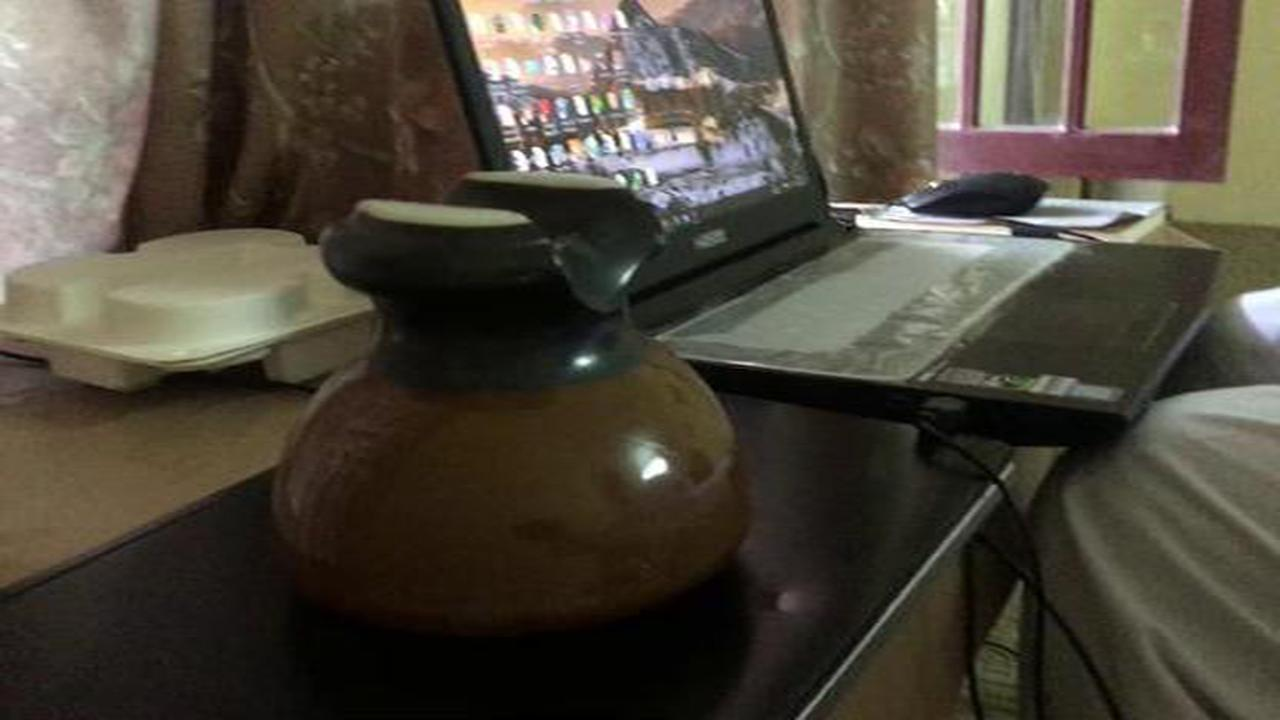insulator_pin: (250, 156, 776, 636)
